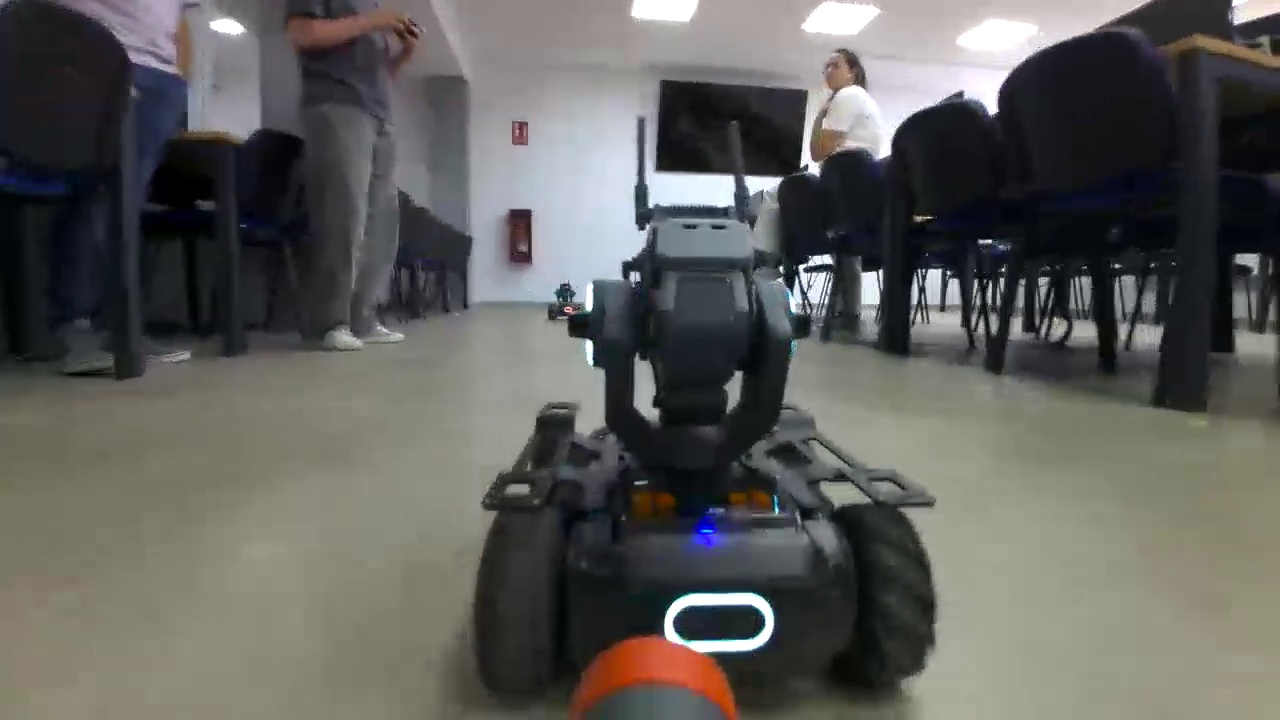robot: (478, 220, 938, 700), (545, 280, 582, 322)
